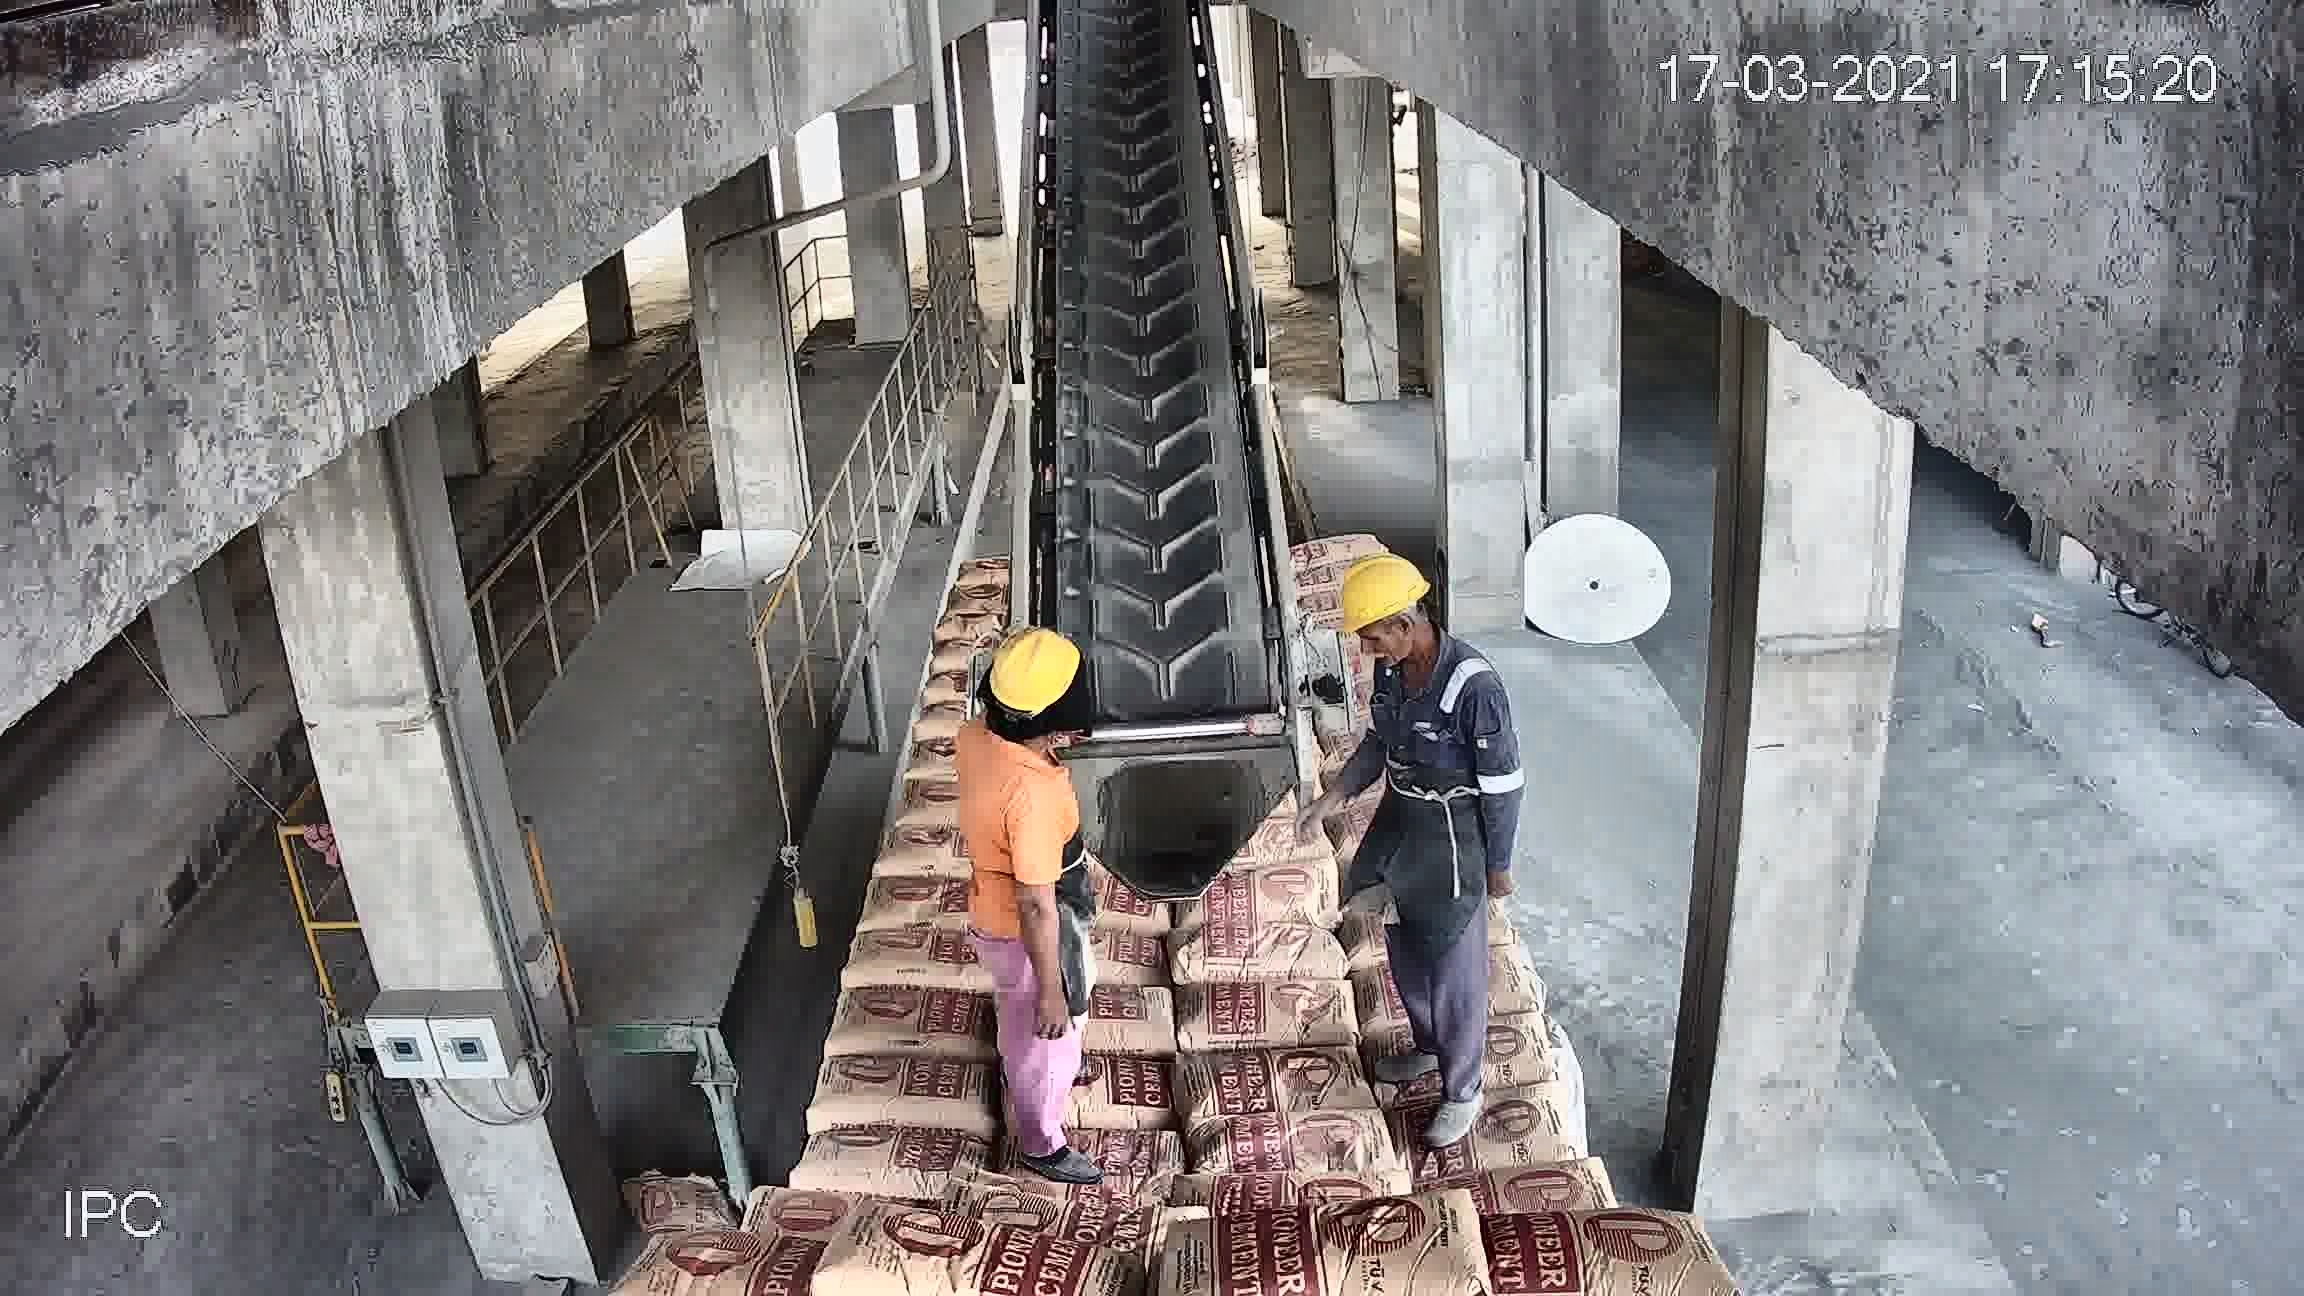bag_h: (1196, 1204, 1510, 1294), (812, 1222, 1111, 1294), (1438, 1211, 1700, 1293), (1383, 1079, 1578, 1180), (796, 1057, 1006, 1139), (1196, 1109, 1397, 1192), (1190, 1046, 1367, 1131), (1173, 975, 1366, 1051), (828, 976, 1013, 1055), (1032, 987, 1218, 1063), (1044, 1062, 1217, 1139), (786, 1124, 999, 1185), (642, 1230, 842, 1294), (1032, 1119, 1222, 1185), (1173, 921, 1348, 987), (1440, 1163, 1611, 1225), (843, 927, 983, 992)
belt: (1005, 24, 1282, 807)
